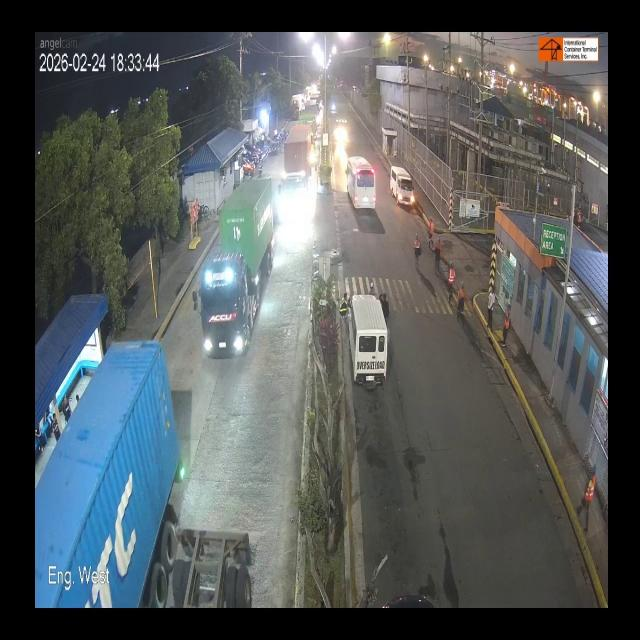bus: (340, 150, 380, 222)
car: (343, 299, 389, 396), (387, 164, 417, 213)
truck: (37, 332, 192, 610), (189, 183, 282, 370), (274, 129, 312, 241)
